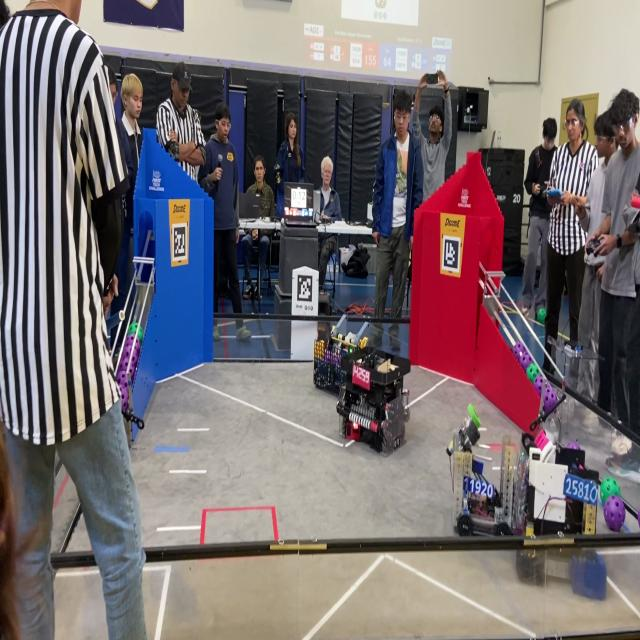artifact_green: (600, 478, 620, 504), (127, 322, 143, 341), (468, 404, 480, 428), (527, 363, 540, 383), (536, 308, 547, 324), (127, 322, 138, 334)
artifact_purple: (604, 495, 625, 532), (121, 350, 138, 375), (544, 386, 557, 413), (520, 351, 532, 370), (125, 335, 140, 350), (120, 386, 128, 411), (117, 361, 126, 383), (534, 374, 543, 396), (513, 342, 524, 359), (124, 334, 137, 348), (130, 351, 138, 372), (117, 369, 127, 385), (121, 347, 131, 363), (118, 354, 126, 373), (566, 441, 580, 450), (134, 342, 141, 356), (134, 336, 141, 349), (119, 380, 127, 391), (131, 350, 139, 361), (324, 351, 331, 362), (638, 513, 639, 526)
